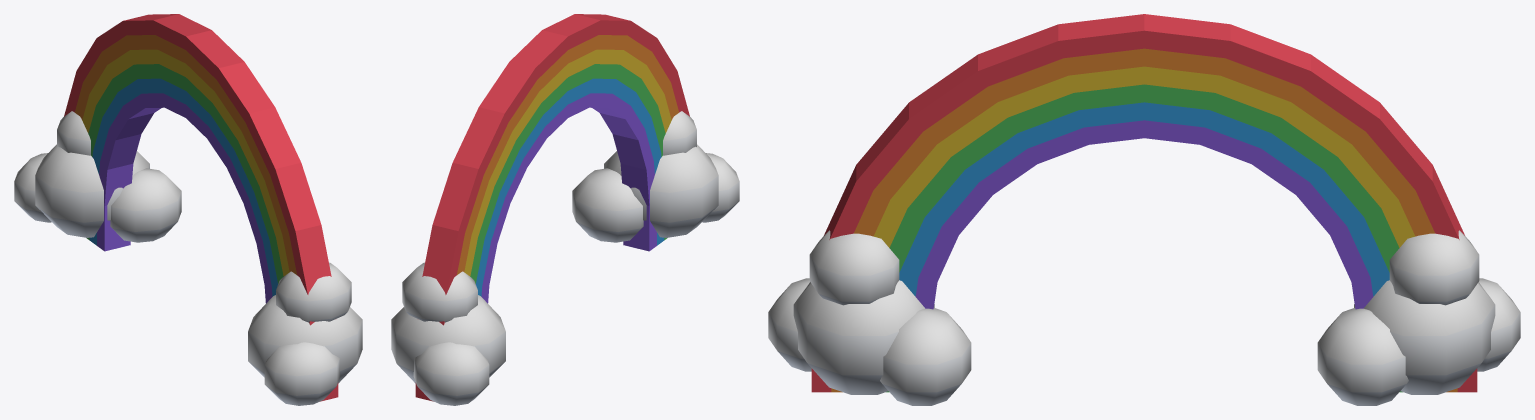
The model's file is carnival-deco3.glb.
3 views of the same model, side by side, from view 1: azimuth 30°, elevation 25°; view 2: azimuth 150°, elevation 25°; view 3: azimuth 270°, elevation 25° (orthographic). The views are drawn at different scales.
Parts seen in each view (by area): view 1: carnival-deco3; view 2: carnival-deco3; view 3: carnival-deco3.
Boxes of the visible parts, <box> form: carnival-deco3: <box>14,14,362,405</box>; carnival-deco3: <box>391,14,739,405</box>; carnival-deco3: <box>768,14,1520,405</box>.
Size of the model in its own units: 1.07 by 2.45 by 4.56.
